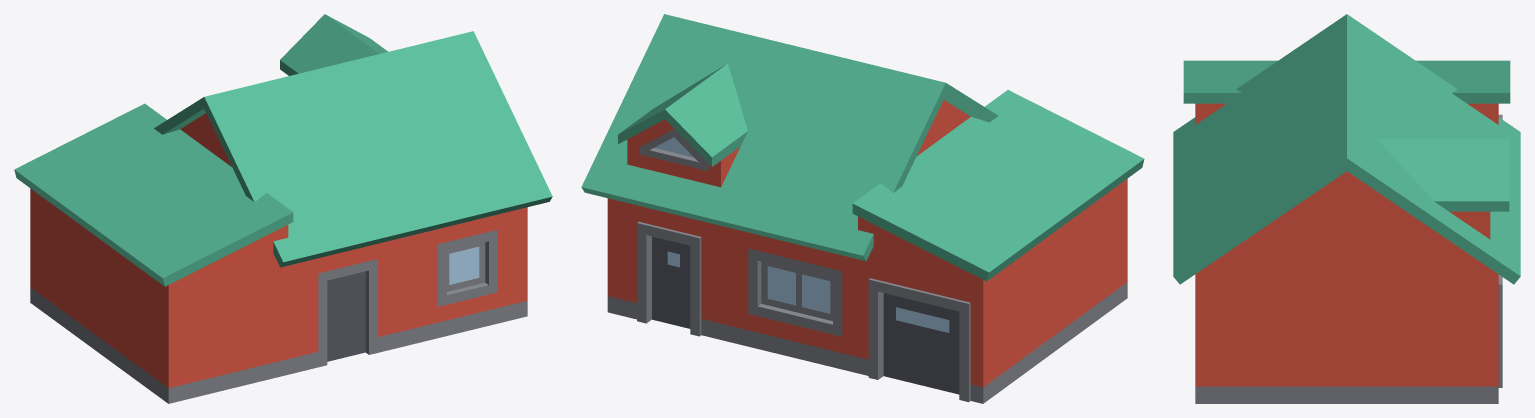
The model's file is house_type04.fbx.
The picture shows the model from 3 angles, left to right: view 1: azimuth 30°, elevation 25°; view 2: azimuth 150°, elevation 25°; view 3: azimuth 270°, elevation 25°; orthographic projection. The views are drawn at different scales.
Parts seen in each view (by area): view 1: house_type04; view 2: house_type04; view 3: house_type04.
Boxes of the visible parts, bbox=[...] form: house_type04: bbox=[14, 14, 552, 403]; house_type04: bbox=[581, 14, 1144, 403]; house_type04: bbox=[1173, 14, 1520, 403].
Bounding box in the file's own units: 12.86 × 7.38 × 9.16.
